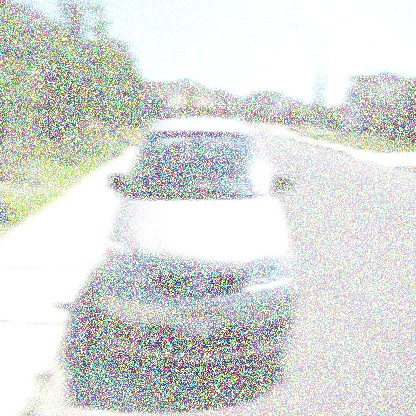Vehicle: (98, 113, 298, 361)
